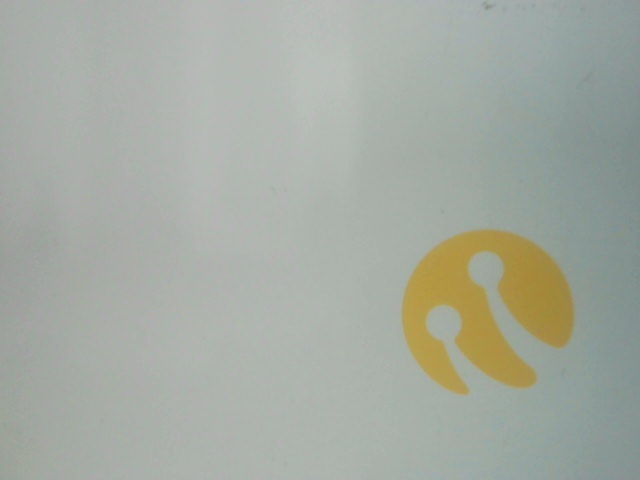AV_H3600Yellow: (379, 219, 596, 408)
